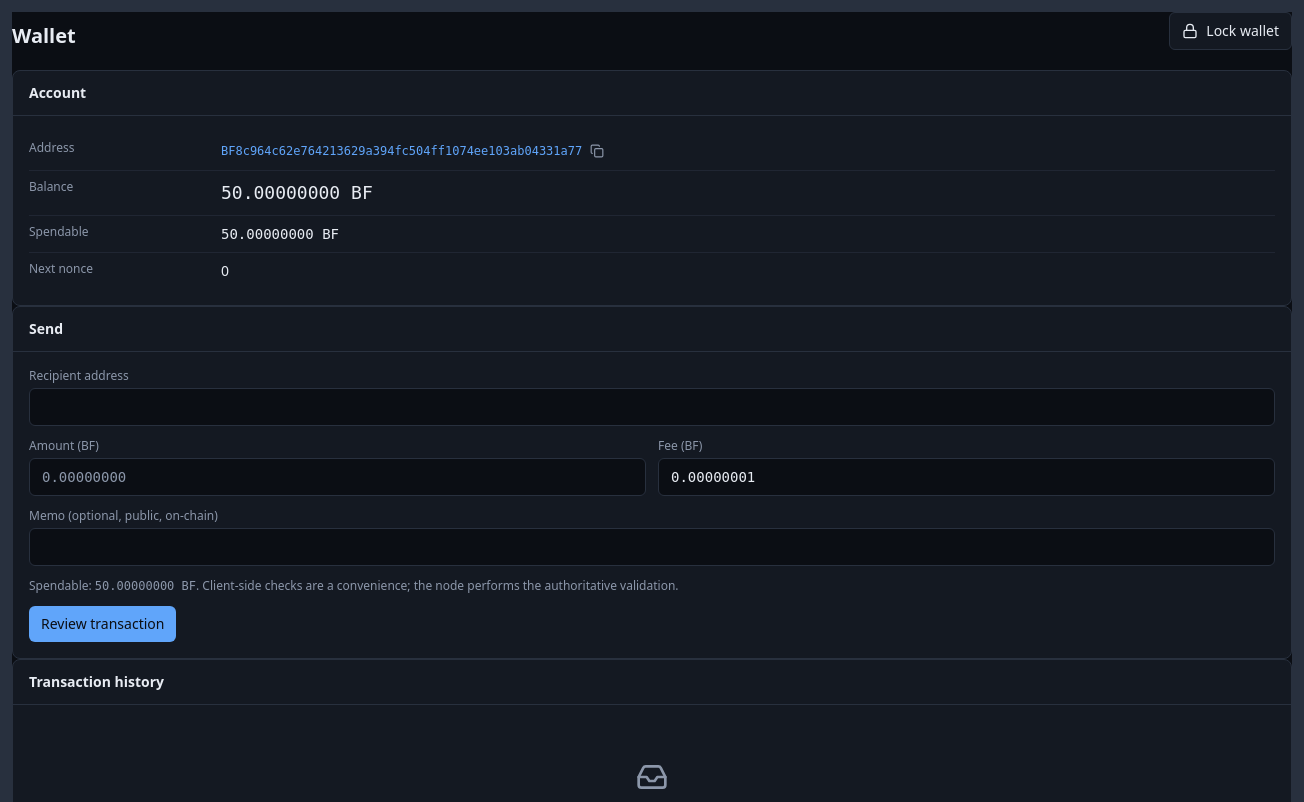
it: Wallet › validates the send form before the confirmation dialog
Expected: the heading "Send" is shown, left=29, top=319, right=63, bottom=339
In the field labelled "Recipient address": point(652, 407) left=29, top=388, right=1275, bottom=426, type "BFbad"
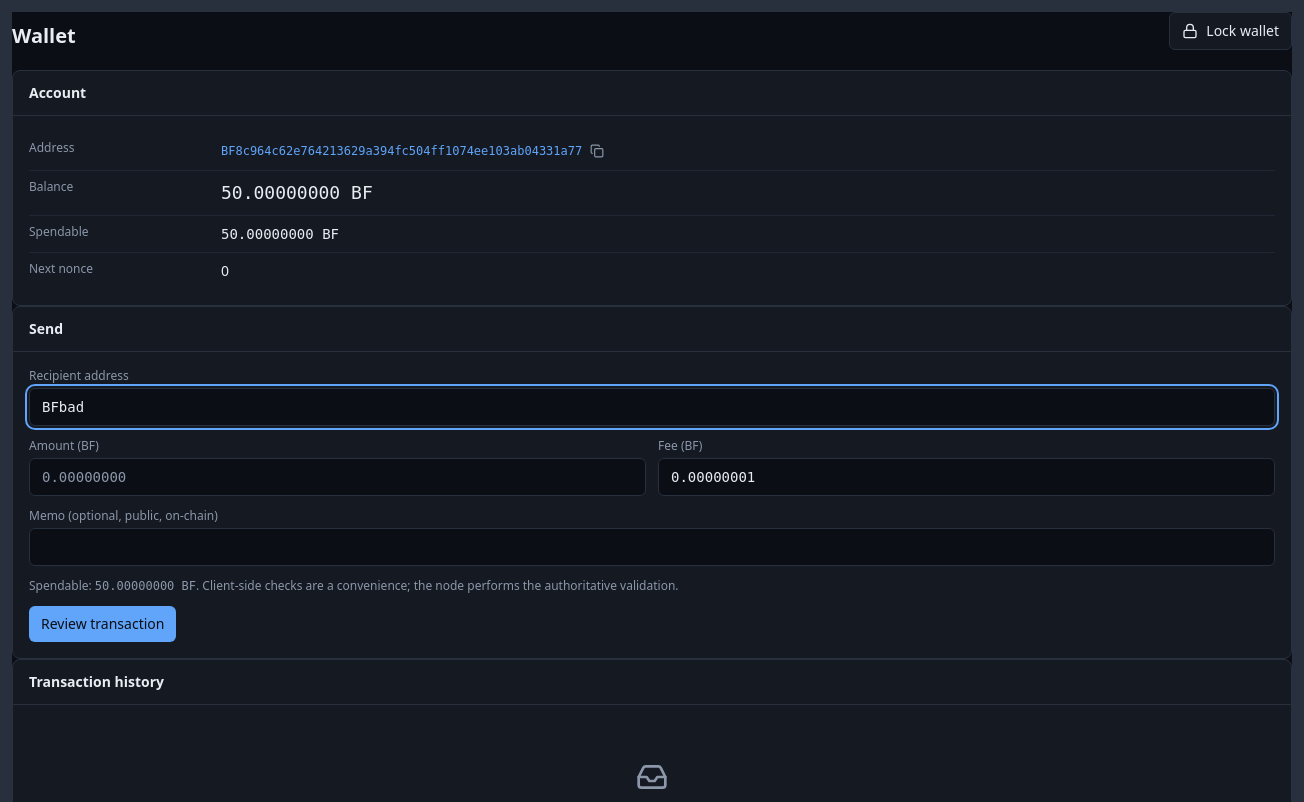
In the field labelled "Amount (BF)": point(338, 477) left=29, top=458, right=646, bottom=496, type "1.123456789"
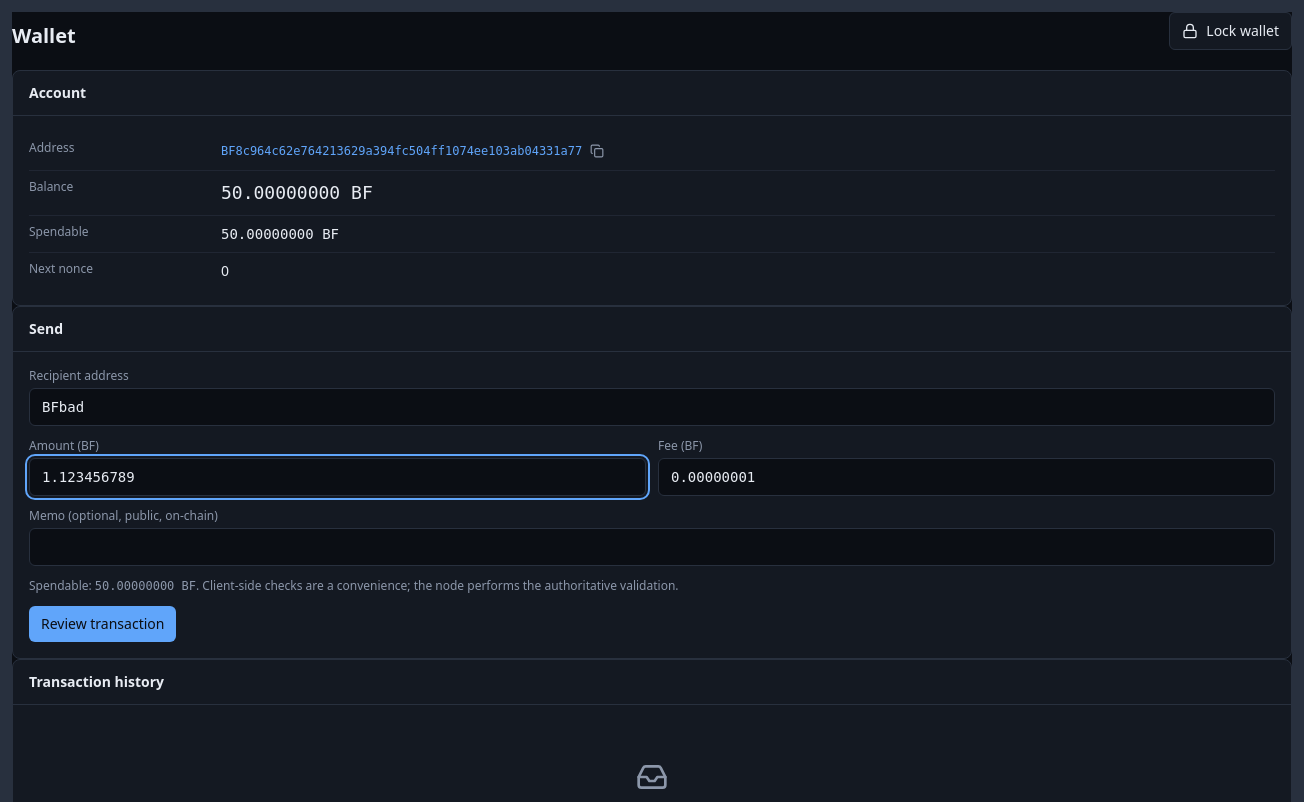
Click the button "Review transaction": point(103, 624) left=29, top=606, right=176, bottom=642
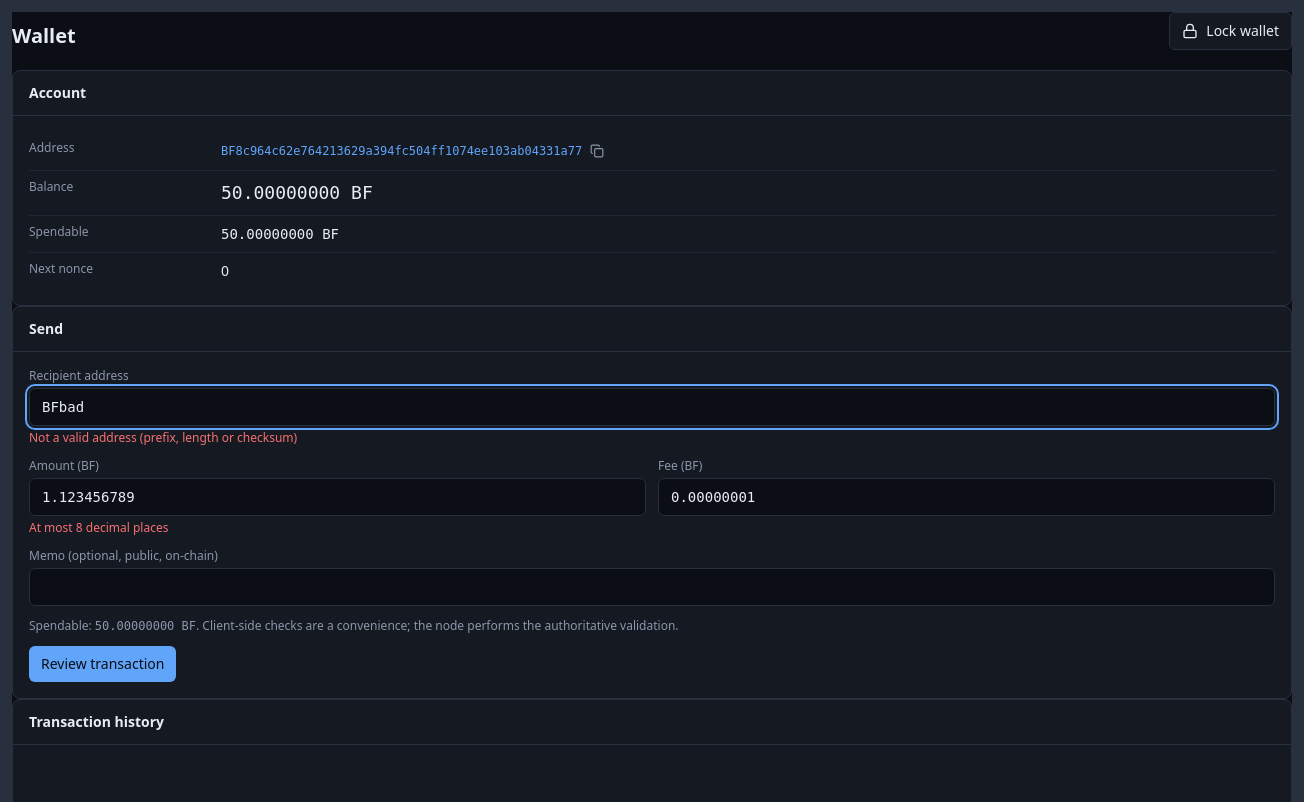
Now the text "Not a valid address (prefix, length or checksum)" is shown, box left=29, top=429, right=297, bottom=446
Now the text "At most 8 decimal places" is shown, box left=29, top=519, right=168, bottom=536
